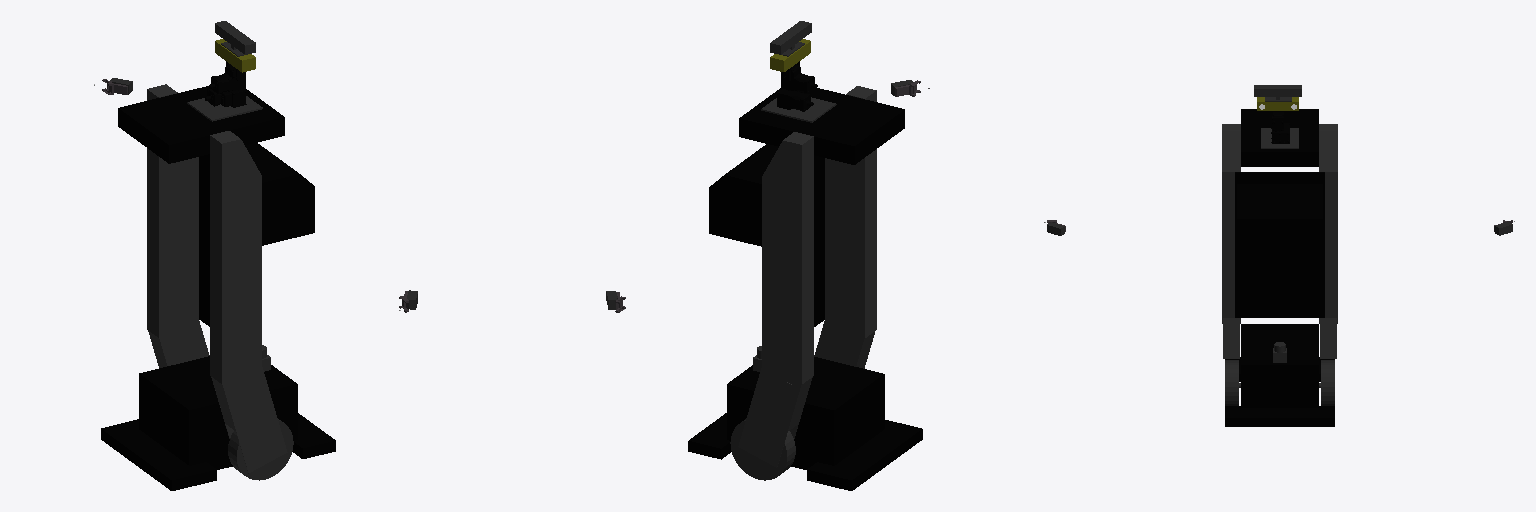
--- What the picture shows (computed from the rendered views, not written in the file) ---
The picture shows the robot from 3 angles, left to right: view 1: azimuth 30°, elevation 25°; view 2: azimuth 150°, elevation 25°; view 3: azimuth 270°, elevation 25°; orthographic projection.
Robot: phoebe — 39 links, 38 joints (16 revolute, 2 continuous, 4 prismatic, 16 fixed); root link base_footprint; default pose: all joints at 0.
Links seen in each view (by area): view 1: base_link, wheel_right, ptu_base_plate_link, xtion_link, ptu_tilt_link, bumblebee_link, ptu_pan_link; view 2: base_link, wheel_left, xtion_link, ptu_base_plate_link, ptu_pan_link, bumblebee_link, ptu_tilt_link; view 3: base_link, xtion_link, wheel_left, wheel_right.
Boxes of the visible links, bbox=[...] form: base_link: bbox=[101, 84, 335, 490]; wheel_right: bbox=[228, 419, 293, 480]; ptu_base_plate_link: bbox=[187, 96, 262, 121]; xtion_link: bbox=[215, 21, 255, 56]; ptu_tilt_link: bbox=[209, 64, 245, 93]; bumblebee_link: bbox=[215, 39, 255, 72]; ptu_pan_link: bbox=[205, 89, 246, 107]; base_link: bbox=[688, 86, 922, 490]; wheel_left: bbox=[730, 418, 795, 480]; xtion_link: bbox=[770, 21, 811, 56]; ptu_base_plate_link: bbox=[761, 97, 836, 122]; ptu_pan_link: bbox=[777, 89, 813, 111]; bumblebee_link: bbox=[770, 39, 810, 71]; ptu_tilt_link: bbox=[781, 64, 817, 93]; base_link: bbox=[1222, 109, 1337, 426]; xtion_link: bbox=[1254, 85, 1301, 101]; wheel_left: bbox=[1321, 360, 1334, 405]; wheel_right: bbox=[1225, 360, 1238, 405].
Size in the robot's own frame: 0.546 by 1.77 by 1.34 metres.
Meshes: 15 distinct files referenced, 6 mesh visuals loaded (5 Collada DAE); not drawn: 20 (reference not matched to a file when rendering).

robot.urdf — phoebe:
<?xml version="1.0" ?>
<!-- =================================================================================== -->
<!-- |    This document was autogenerated by xacro from [local-path]/catkin_ws/src/phoebe_stack/phoebe_description/phoebe.urdf.xacro | -->
<!-- |    EDITING THIS FILE BY HAND IS NOT RECOMMENDED                                 | -->
<!-- =================================================================================== -->
<robot name="phoebe" xmlns:xacro="http://www.ros.org/wiki/xacro">

  <!-- ros_control plugin -->
  <gazebo>
    <plugin name="gazebo_ros_control" filename="libgazebo_ros_control.so"/>
    <robotNamespace>/phoebe</robotNamespace>
    <robotSimType>gazebo_ros_control/DefaultRobotHWSim</robotSimType>
  </gazebo>
  
   <!-- Used for fixing robot to Gazebo 'base_link' -->
  <link name="base_footprint"/>
    
  <joint name="base_joint" type="fixed">
      <origin xyz="0 0 0.0012" rpy="0 0 0" />
      <parent link="base_footprint"/>
      <child link="base_link" />
  </joint> 

  <link name="base_link">
    <inertial>
      <origin rpy="0 0 0" xyz="-0.04 0 0.56"/>
      <mass value="12"/>
      <!-- inretia tensor for solid cuboid: m=12, h=1.12, d=0.49, w=0.41 -->
      <inertia ixx="1.4225" ixy="0" ixz="0" iyy="1.4945" iyz="0" izz="0.4082"/>
    </inertial>
    <visual>
      <origin rpy="0 0 0" xyz="0 0 0"/>
      <geometry>
        <mesh filename="package://phoebe_description/meshes/phoebe.dae"/>
      </geometry>
    </visual>
    <collision>
      <origin rpy="0 0 0" xyz="0 0 0"/>
      <geometry>
        <mesh filename="package://phoebe_description/meshes/phoebe.dae"/>
      </geometry>
    </collision>
  </link>

  <joint name="wheel_left_joint" type="continuous">
    <parent link="base_link"/>
    <child link="wheel_left"/>
    <origin rpy="1.570796 0 0" xyz="0.0 0.18 0.095"/>
    <axis xyz="0 0 1"/>
  </joint>
  <link name="wheel_left">
    <inertial>
      <origin rpy="0 0 0" xyz="0.0 0 0"/>
      <mass value="0.5"/>
      <!-- inretia tensor for solid cylinder: m=0.5, h=0.05, r=0.095 -->
      <inertia ixx="1.232291667e-03" ixy="0" ixz="0" iyy="1.232291667e-03" iyz="0" izz="2.25625e-03"/>
    </inertial>
    <visual>
      <origin rpy="0 0 0" xyz="0 0 0"/>
      <geometry>
        <cylinder length="0.05" radius="0.095"/>
      </geometry>
      <material name="blackish">
        <color rgba="0.2 0.2 0.2 1"/>
      </material>
    </visual>
    <collision>
      <origin rpy="0 0 0" xyz="0 0 0"/>
      <geometry>
        <cylinder length="0.05" radius="0.095"/>
      </geometry>
    </collision>
  </link>

  <joint name="wheel_right_joint" type="continuous">
    <parent link="base_link"/>
    <child link="wheel_right"/>
    <origin rpy="1.570796 0 0" xyz="0.0 -0.18 0.095"/>
    <axis xyz="0 0 1"/>
  </joint>
  <link name="wheel_right">
    <inertial>
      <origin rpy="0 0 0" xyz="0.0 0 0"/>
      <mass value="0.5"/>
      <!-- inretia tensor for solid cylinder: m=0.5, h=0.05, r=0.095 -->
      <inertia ixx="1.232291667e-03" ixy="0" ixz="0" iyy="1.232291667e-03" iyz="0" izz="2.25625e-03"/>
    </inertial>
    <visual>
      <origin rpy="0 0 0" xyz="0 0 0"/>
      <geometry>
        <cylinder length="0.05" radius="0.095"/>
      </geometry>
      <material name="blackish"/>
    </visual>
    <collision>
      <origin rpy="0 0 0" xyz="0 0 0"/>
      <geometry>
        <cylinder length="0.05" radius="0.095"/>
      </geometry>
    </collision>
  </link>

  <gazebo>
    <plugin name="differential_drive_controller" filename="libgazebo_ros_diff_drive.so">
      <legacyMode>false</legacyMode> <!-- warn -->
      <alwaysOn>true</alwaysOn>
      <updateRate>100</updateRate>
      <leftJoint>wheel_left_joint</leftJoint>
      <rightJoint>wheel_right_joint</rightJoint>
      <wheelSeparation>0.36</wheelSeparation>
      <wheelDiameter>0.19</wheelDiameter>
      <wheelAcceleration>0</wheelAcceleration> <!-- warn -->
      <wheelTorque>5</wheelTorque> <!-- torque -> wheelTorque -->
      <commandTopic>cmd_vel</commandTopic>
      <odometryTopic>odom</odometryTopic>
      <odometryFrame>odom</odometryFrame>
      <robotBaseFrame>base_link</robotBaseFrame>
      <publishWheelTF>true</publishWheelTF> <!-- warn -->
      <publishWheelJointState>true</publishWheelJointState> <!-- warn -->
      <rosDebugLevel>na</rosDebugLevel> <!-- warn -->
      <odometrySource>world</odometrySource> <!-- warn -->
    </plugin>
  </gazebo>

  <!-- Cyton Gamma 1500 models -->

  <!-- Right arm -->

  <joint name="right_arm_joint" type="fixed">
    <parent link="base_link"/>
    <child link="right_arm_base_link"/>
    <origin rpy="1.5708 -1.5708 0" xyz="0.067 -0.162 0.8"/>
  </joint>
  <link name="right_arm_base_link">
    <inertial>
      <origin rpy="0 0 0" xyz="0.0 0 0"/>
      <mass value="0.478571"/>
      <!-- inretia tensor for solid cuboid: m=0.478571, w=0.177, h=0.074, d=0.150 -->
      <inertia ixx="1.47e-03" ixy="0" ixz="0" iyy="2.15e-03" iyz="0" izz="1.12e-03"/>
    </inertial>
    <visual>
      <origin rpy="0 0 0" xyz="0 0 0"/>
      <geometry>
        <mesh filename="package://cyton_gamma_1500_description/meshes/base.dae"/>
      </geometry>
    </visual>
    <collision>
      <origin xyz="0 0.0115 0.047"/>
      <geometry>
        <box size="0.154 0.177 0.094"/>
      </geometry>
    </collision>
  </link>

  <joint name="right_arm_shoulder_roll_joint" type="revolute">
    <parent link="right_arm_base_link"/>
    <child link="right_arm_shoulder_roll"/>
    <origin rpy="0 0 0" xyz="0 0 0.05315"/>
    <limit effort="100.0" lower="-2.618" upper="2.618" velocity="1.0"/>
    <axis xyz="0 0 1"/>
  </joint>
  <link name="right_arm_shoulder_roll">
    <inertial>
      <origin rpy="0 0 0" xyz="0 0 0.12"/>
      <mass value="0.468571"/>
      <!-- inretia tensor for solid cylinder: m=0.468571, h=0.09248, r=0.044737 -->
      <inertia ixx="4.7e-04" ixy="0" ixz="0" iyy="5.7e-04" iyz="0" izz="5.7e-04"/>
    </inertial>
    <visual>
      <origin rpy="1.5708 0 0.384" xyz="0 0 0"/>
      <geometry>
        <mesh filename="package://cyton_gamma_1500_description/meshes/shoulder_roll.dae"/>
      </geometry>
    </visual>
    <collision>
      <origin xyz="0.0 0.069 0.0587"/>
      <geometry>
        <box size="0.09829 0.18143 0.08392"/>
      </geometry>
    </collision>
  </link>

  <transmission name="right_shoulder_roll_transm">
    <type>transmission_interface/SimpleTransmission</type>
    <joint name="right_arm_shoulder_roll_joint">
      <hardwareInterface>PositionJointInterface</hardwareInterface>
    </joint>
    <actuator name="right_shoulder_roll_motor">
      <hardwareInterface>PositionJointInterface</hardwareInterface>
    </actuator>
  </transmission>

  <joint name="right_arm_shoulder_pitch_joint" type="revolute">
    <parent link="right_arm_shoulder_roll"/>
    <child link="right_arm_shoulder_pitch"/>
    <origin rpy="0 0 0" xyz="0.0205 0 0.12435"/>
    <limit effort="100.0" lower="-1.8326" upper="1.8326" velocity="1.0"/>
    <axis xyz="1 0 0"/>
  </joint>
  <link name="right_arm_shoulder_pitch">
    <inertial>
      <origin rpy="0 0 0" xyz="-0.0214 0 0.117"/>
      <mass value="0.4285714"/>
      <!-- inretia tensor for solid cylinder: m=0.4285714, h=0.09248, r=0.04204 -->
      <inertia ixx="4.9e-04" ixy="0" ixz="0" iyy="3.8e-04" iyz="0" izz="4.9e-04"/>
    </inertial>
    <visual>
      <origin rpy="1.5708 0 0" xyz="0 0 0"/>
      <geometry>
        <mesh filename="package://cyton_gamma_1500_description/meshes/shoulder_pitch.dae"/>
      </geometry>
    </visual>
    <collision>
      <origin xyz="-0.001 0.064 0.1745"/>
      <geometry>
        <box size="0.0709 0.19363 0.083"/>
      </geometry>
    </collision>
  </link>
 
  <transmission name="right_shoulder_pitch_transm">
    <type>transmission_interface/SimpleTransmission</type>
    <joint name="right_arm_shoulder_pitch_joint">
      <hardwareInterface>PositionJointInterface</hardwareInterface>
    </joint>
    <actuator name="right_shoulder_pitch_motor">
      <hardwareInterface>PositionJointInterface</hardwareInterface>
    </actuator>
  </transmission>

  <joint name="right_arm_shoulder_yaw_joint" type="revolute">
    <parent link="right_arm_shoulder_pitch"/>
    <child link="right_arm_shoulder_yaw"/>
    <origin rpy="0 0 0" xyz="-0.0215 -0.0205 0.1255"/>
    <limit effort="100.0" lower="-1.8326" upper="1.8326" velocity="1.0"/>
    <axis xyz="0 -1 0"/>
  </joint>
  <link name="right_arm_shoulder_yaw">
    <inertial>
      <origin rpy="0 0 0" xyz="-0.002 0.021 0.1135"/>
      <mass value="0.408571"/>
      <!-- inretia tensor for solid cylinder: m=0.408571, h=0.084081, r=0.036785 -->
      <inertia ixx="2.8e-04" ixy="0" ixz="0" iyy="3.8e-04" iyz="0" izz="3.8e-04"/>
    </inertial>
    <visual>
      <origin rpy="1.5708 0 -1.5708" xyz="0 0 0.0"/>
      <geometry>
        <mesh filename="package://cyton_gamma_1500_description/meshes/shoulder_yaw.dae"/>
      </geometry>
    </visual>
    <collision>
      <origin xyz="-0.0225 0.039 0.3068"/>
      <geometry>
        <box size="0.0717 0.1846 0.0756"/>
      </geometry>
    </collision>
  </link>

  <transmission name="right_shoulder_yaw_transm">
    <type>transmission_interface/SimpleTransmission</type>
    <joint name="right_arm_shoulder_yaw_joint">
      <hardwareInterface>PositionJointInterface</hardwareInterface>
    </joint>
    <actuator name="right_shoulder_yaw_motor">
      <hardwareInterface>PositionJointInterface</hardwareInterface>
    </actuator>
  </transmission>

  <joint name="right_arm_elbow_pitch_joint" type="revolute">
    <parent link="right_arm_shoulder_yaw"/>
    <child link="right_arm_elbow_pitch"/>
    <origin rpy="0 0 0" xyz="0.018 0.0206 0.1158"/>
    <limit effort="100.0" lower="-1.8326" upper="1.8326" velocity="1.0"/>
    <axis xyz="1 0 0"/>
  </joint>
  <link name="right_arm_elbow_pitch">
    <inertial>
      <origin rpy="0 0 0" xyz="-0.0176 0.001 0.095"/>
      <mass value="0.388671"/>
      <!-- inretia tensor for solid cylinder: m=0.388671, h=0.06705, r=0.028975 -->
      <inertia ixx="2.3e-04" ixy="0" ixz="0" iyy="1.6e-04" iyz="0" izz="2.3e-04"/>
    </inertial>
    <visual>
      <origin rpy="1.5708 0 3.1416" xyz="0 0 0"/>
      <geometry>
        <mesh filename="package://cyton_gamma_1500_description/meshes/elbow_pitch.dae"/>
      </geometry>
    </visual>
    <collision>
      <origin xyz="0.0346 0.0461 0.4228"/>
      <geometry>
        <box size="0.0549 0.1557 0.076"/>
      </geometry>
    </collision>
  </link>

  <transmission name="right_elbow_pitch_transm">
    <type>transmission_interface/SimpleTransmission</type>
    <joint name="right_arm_elbow_pitch_joint">
      <hardwareInterface>PositionJointInterface</hardwareInterface>
    </joint>
    <actuator name="right_elbow_pitch_motor">
      <hardwareInterface>PositionJointInterface</hardwareInterface>
    </actuator>
  </transmission>

  <joint name="right_arm_elbow_yaw_joint" type="revolute">
    <parent link="right_arm_elbow_pitch"/>
    <child link="right_arm_elbow_yaw"/>
    <origin rpy="0 0 0" xyz="-0.0171 -0.018 0.09746"/>
    <limit effort="100.0" lower="-1.8326" upper="1.8326" velocity="1.0"/>
    <axis xyz="0 -1 0"/>
  </joint>
  <link name="right_arm_elbow_yaw">
    <inertial>
      <origin rpy="0 0 0" xyz="0 0.018 0.073"/>
      <mass value="0.368871"/>
      <!-- inretia tensor for solid cylinder: m=0.368871, h=0.043602, r=0.024071 -->
      <inertia ixx="1.0686e-04" ixy="0" ixz="0" iyy="1.1187e-04" iyz="0" izz="1.1187e-04"/>
    </inertial>
    <visual>
      <origin rpy="1.5708 0 1.5708" xyz="0 0 0"/>
      <geometry>
        <mesh filename="package://cyton_gamma_1500_description/meshes/elbow_yaw.dae"/>
      </geometry>
    </visual>
    <collision>
      <origin xyz="0.0172 0.0209 0.516"/>
      <geometry>
        <box size="0.0535 0.1160 0.0402"/>
      </geometry>
    </collision>
  </link>

  <transmission name="right_elbow_yaw_transm">
    <type>transmission_interface/SimpleTransmission</type>
    <joint name="right_arm_elbow_yaw_joint">
      <hardwareInterface>PositionJointInterface</hardwareInterface>
    </joint>
    <actuator name="right_elbow_yaw_motor">
      <hardwareInterface>PositionJointInterface</hardwareInterface>
    </actuator>
  </transmission>

  <joint name="right_arm_wrist_pitch_joint" type="revolute">
    <parent link="right_arm_elbow_yaw"/>
    <child link="right_arm_wrist_pitch"/>
    <origin rpy="0 0 0" xyz="0.02626 0.018 0.0718"/>
    <limit effort="100.0" lower="-1.8326" upper="1.8326" velocity="1.0"/>
    <axis xyz="-1 0 0"/>
  </joint>
  <link name="right_arm_wrist_pitch">
    <inertial>
      <origin rpy="0 0 0" xyz="-0.027 -0.0005 0.028"/>
      <mass value="0.008"/>
      <!-- inretia tensor for solid cuboid: m=0.008, h=0.045602, w=0.0218, d=0.005 -->
      <inertia ixx="3.3349e-07" ixy="0" ixz="0" iyy="1.403e-06" iyz="0" izz="1.70319e-06"/>
    </inertial>
    <visual>
      <origin rpy="1.5708 0 1.5708" xyz="0 0 0"/>
      <geometry>
        <mesh filename="package://cyton_gamma_1500_description/meshes/wrist_pitch.dae"/>
      </geometry>
    </visual>
    <collision>
      <origin xyz="0.0257 0.0118 0.5617"/>
      <geometry>
        <box size="0.026 0.0435 0.05185"/>
      </geometry>
    </collision>
  </link>

  <transmission name="right_wrist_pitch_transm">
    <type>transmission_interface/SimpleTransmission</type>
    <joint name="right_arm_wrist_pitch_joint">
      <hardwareInterface>PositionJointInterface</hardwareInterface>
    </joint>
    <actuator name="right_wrist_pitch_motor">
      <hardwareInterface>PositionJointInterface</hardwareInterface>
    </actuator>
  </transmission>

  <joint name="right_arm_wrist_roll_joint" type="revolute">
    <parent link="right_arm_wrist_pitch"/>
    <child link="right_arm_wrist_roll"/>
    <origin rpy="0 0 0" xyz="-0.026255 0 0.051425"/>
    <limit effort="100.0" lower="-2.61799" upper="2.61799" velocity="1.0"/>
    <axis xyz="0 0 1"/>
  </joint>
  <link name="right_arm_wrist_roll">
    <inertial>
      <origin rpy="0 0 0" xyz="0 0 0.029"/>
      <mass value="0.38"/>
      <!-- inretia tensor for solid cylinder: m=0.38, h=0.095, r=0.027975 -->
      <inertia ixx="3.6e-04" ixy="0" ixz="0" iyy="3.6e-04" iyz="0" izz="1.487e-04"/>
    </inertial>
    <visual>
      <origin rpy="3.1416 0 -1.5708" xyz="0 0 0"/>
      <geometry>
        <mesh filename="package://cyton_gamma_1500_description/meshes/wrist_roll.dae"/>
      </geometry>
    </visual>
    <collision>
      <origin xyz="-0.0063 -0.0014 0.6102"/>
      <geometry>
        <box size="0.0518 0.0723 0.1004"/>
      </geometry>
    </collision>
  </link>

  <transmission name="right_wrist_roll_transm">
    <type>transmission_interface/SimpleTransmission</type>
    <joint name="right_arm_wrist_roll_joint">
      <hardwareInterface>PositionJointInterface</hardwareInterface>
    </joint>
    <actuator name="right_wrist_roll_motor">
      <hardwareInterface>PositionJointInterface</hardwareInterface>
    </actuator>
  </transmission>

  <joint name="right_arm_gripper_joint" type="prismatic">
    <parent link="right_arm_wrist_roll"/>
    <child link="right_arm_gripper_finger1"/>
    <origin rpy="0 0 0" xyz="-0.01331 0.00485 0.077225"/>
    <limit effort="100.0" lower="-0.008" upper="0.008" velocity="1.0"/>
    <axis xyz="1 0 0"/>
  </joint>
  <link name="right_arm_gripper_finger1">
    <inertial>
      <origin rpy="0 0 0" xyz="-0.0036 0.0096 0.017"/>
      <mass value="0.035"/>
      <!-- inretia tensor for solid cuboid: m=0.035, h=0.0323, w=0.01469, d=0.0224 -->
      <inertia ixx="4.5064e-06" ixy="0" ixz="0" iyy="3.6723e-06" iyz="0" izz="2.0929e-06"/>
    </inertial>
    <visual>
      <origin rpy="0 0 0" xyz="0 0 0"/>
      <geometry>
        <mesh filename="package://cyton_gamma_1500_description/meshes/gripper_finger1.dae"/>
      </geometry>
    </visual>
    <collision>
      <origin xyz="-0.0167 0.0172 0.7254"/>
      <geometry>
        <box size="0.015 0.0229 0.0475"/>
      </geometry>
    </collision>
  </link>

  <transmission name="right_gripper_finger1">
    <type>transmission_interface/SimpleTransmission</type>
    <joint name="right_arm_gripper_joint">
      <hardwareInterface>PositionJointInterface</hardwareInterface>
    </joint>
    <actuator name="right_gripper_finger1_motor">
      <hardwareInterface>PositionJointInterface</hardwareInterface>
    </actuator>
  </transmission>

  <joint name="right_arm_gripper_joint2" type="prismatic">
    <parent link="right_arm_wrist_roll"/>
    <child link="right_arm_gripper_finger2"/>
    <origin rpy="0 0 0" xyz="0.0098 0.00485 0.077225"/>
    <limit effort="100.0" lower="-0.008" upper="0.008" velocity="1.0"/>
    <mimic joint="right_arm_gripper_joint" multiplier="-1"/>
    <axis xyz="1 0 0"/>
  </joint>
  <link name="right_arm_gripper_finger2">
    <inertial>
      <origin rpy="0 0 0" xyz="0.0034 0.0096 0.017"/>
      <mass value="0.035"/>
      <!-- inretia tensor for solid cuboid: m=0.035, h=0.0323, w=0.01469, d=0.0224 -->
      <inertia ixx="4.5064e-06" ixy="0" ixz="0" iyy="3.6723e-06" iyz="0" izz="2.0929e-06"/>
    </inertial>
    <visual>
      <origin rpy="0 0 0" xyz="0 0 0"/>
      <geometry>
        <mesh filename="package://cyton_gamma_1500_description/meshes/gripper_finger2.dae"/>
      </geometry>
    </visual>
    <collision>
      <origin xyz="0.0132 0.0172 0.7254"/>
      <geometry>
        <box size="0.015 0.0229 0.0475"/>
      </geometry>
    </collision>
  </link>

  <transmission name="right_gripper_finger2">
    <type>transmission_interface/SimpleTransmission</type>
    <joint name="right_arm_gripper_joint2">
      <hardwareInterface>PositionJointInterface</hardwareInterface>
    </joint>
    <actuator name="right_gripper_finger2_motor">
      <hardwareInterface>PositionJointInterface</hardwareInterface>
    </actuator>
  </transmission>


  <!-- virtual end-effector -->

  <joint name="right_arm_virtual_endeffector_joint" type="fixed">
    <parent link="right_arm_wrist_roll"/>
    <child link="right_arm_virtual_endeffector"/>
    <origin rpy="0 0 0" xyz="-0.002316 0.0079 0.079425"/>
  </joint>
  <link name="right_arm_virtual_endeffector">
    <inertial>
      <origin rpy="0 0 0" xyz="0 0 0"/>
      <mass value="0.0016"/>
      <!-- inretia tensor for solid sphere: m=0.0016, r=0.0022 -->
      <inertia ixx="3.0976e-09" ixy="0" ixz="0" iyy="3.0976e-09" iyz="0" izz="3.0976e-09"/>
    </inertial>
    <visual>
      <origin rpy="0 0 0" xyz="0 0 0"/>
      <geometry>
        <sphere radius="0.002"/>
      </geometry>
      <material name="grey">
        <color rgba="0.7 0.7 0.7 0.8"/>
      </material>
    </visual>
  </link>

  <joint name="right_arm_camera_bracket_joint" type="fixed">
    <parent link="right_arm_wrist_roll"/>
    <child link="right_arm_camera_bracket"/>
    <origin rpy="0 0 0" xyz="-0.0008 -0.028 0.0435"/>
  </joint>
  <link name="right_arm_camera_bracket">
    <inertial>
      <origin rpy="0.95 0 0" xyz="0 -0.01 -0.012"/>
      <mass value="0.052"/>
      <!-- inretia tensor for solid cuboid: m=0.052, h=0.071, w=0.028, d=0.0086 -->
      <inertia ixx="2.2165e-05" ixy="0" ixz="0" iyy="3.7178e-06" iyz="0" izz="2.5242e-05"/>
    </inertial>
    <visual>
      <origin rpy="0 0 0" xyz="0 0 0"/>
      <geometry>
        <mesh filename="package://cyton_gamma_1500_minicam_description/meshes/cam_bracket.dae"/>
      </geometry>
    </visual>
    <!--collision>
        <origin xyz="0.0 0.0 0.0"/>
        <geometry>
          <box size="0.03512 0.04821 0.07179"/>
        </geometry>
      </collision-->
  </link>

  <joint name="right_arm_camera_joint" type="fixed">
    <parent link="right_arm_camera_bracket"/>
    <child link="right_arm_camera"/>
    <origin rpy="-0.625 0 0" xyz="0.0 -0.028 -0.005"/>
  </joint>
  <link name="right_arm_camera">
    <inertial>
      <origin rpy="0 0 0" xyz="0 0 0"/>
      <mass value="0.085"/>
      <!-- inretia tensor for solid cuboid: m=0.085, h=0.065, w=0.024, d=0.024 -->
      <inertia ixx="3.4007e-05" ixy="0" ixz="0" iyy="3.4007e-05" iyz="0" izz="8.16e-06"/>
    </inertial>
    <visual>
      <origin rpy="0 0 0" xyz="0 0 0"/>
      <geometry>
        <box size="0.031 0.028 0.063"/>
      </geometry>
      <material name="blackish">
        <color rgba="0.2 0.2 0.2 1"/>
      </material>
    </visual>
    <collision>
      <origin rpy="0 0 0" xyz="0 0 0"/>
      <geometry>
        <box size="0.036 0.045 0.063"/>
      </geometry>
    </collision>
  </link>

  <gazebo reference="right_arm_camera">
    <sensor type="camera" name="camera_right">
      <update_rate>60</update_rate>
      <camera name="camera_right_arm">
        <horizontal_fov>1.3962634</horizontal_fov>
        <image>
          <width>1280</width>
          <height>1024</height>
          <format>R8G8B8</format>
        </image>
        <clip>
          <near>0.05</near>
          <far>3</far>
        </clip>
        <noise>
          <type>gaussian</type>
          <!-- Noise is sampled independently per pixel on each frame.
               That pixel's noise value is added to each of its color
               channels, which at that point lie in the range [0,1]. -->
          <mean>0.0</mean>
          <stddev>0.007</stddev>
        </noise>
      </camera>
      <plugin name="right_arm_camera_controller" filename="libgazebo_ros_camera.so">
        <alwaysOn>true</alwaysOn>
        <updateRate>0</updateRate>
        <cameraName>/arm_camera/right_arm_camera</cameraName>
        <imageTopicName>/arm_camera/right_arm_camera/image_raw</imageTopicName>
        <cameraInfoTopicName>/arm_camera/right_arm_camera/camera_info</cameraInfoTopicName>
        <frameName>right_arm_camera</frameName>
        <hackBaseline>0.07</hackBaseline>
        <distortionK1>0.0</distortionK1>
        <distortionK2>0.0</distortionK2>
        <distortionK3>0.0</distortionK3>
        <distortionT1>0.0</distortionT1>
        <distortionT2>0.0</distortionT2>
      </plugin>
    </sensor>
  </gazebo>

  <!-- Left arm -->

  <joint name="left_arm_joint" type="fixed">
    <parent link="base_link"/>
    <child link="left_arm_base_link"/>
    <origin rpy="-1.5708 1.5708 0" xyz="0.067 0.162 0.8"/>
  </joint>
  <link name="left_arm_base_link">
    <inertial>
      <origin rpy="0 0 0" xyz="0.0 0 0"/>
      <mass value="0.478571"/>
      <!-- inretia tensor for solid cuboid: m=0.478571, w=0.177, h=0.074, d=0.150 -->
      <inertia ixx="1.47e-03" ixy="0" ixz="0" iyy="2.15e-03" iyz="0" izz="1.12e-03"/>
    </inertial>
    <visual>
      <origin rpy="0 0 0" xyz="0 0 0"/>
      <geometry>
        <mesh filename="package://cyton_gamma_1500_description/meshes/base.dae"/>
      </geometry>
    </visual>
    <collision>
      <origin xyz="0 0.0115 0.047"/>
      <geometry>
        <box size="0.154 0.177 0.094"/>
      </geometry>
    </collision>
  </link>

  <joint name="left_arm_shoulder_roll_joint" type="revolute">
    <parent link="left_arm_base_link"/>
    <child link="left_arm_shoulder_roll"/>
    <origin rpy="0 0 0" xyz="0 0 0.05315"/>
    <limit effort="100.0" lower="-2.618" upper="2.618" velocity="1.0"/>
    <axis xyz="0 0 1"/>
  </joint>
  <link name="left_arm_shoulder_roll">
    <inertial>
      <origin rpy="0 0 0" xyz="0 0 0.12"/>
      <mass value="0.468571"/>
      <!-- inretia tensor for solid cylinder: m=0.468571, h=0.09248, r=0.044737 -->
      <inertia ixx="4.7e-04" ixy="0" ixz="0" iyy="5.7e-04" iyz="0" izz="5.7e-04"/>
    </inertial>
    <visual>
      <origin rpy="1.5708 0 0.384" xyz="0 0 0"/>
      <geometry>
        <mesh filename="package://cyton_gamma_1500_description/meshes/shoulder_roll.dae"/>
      </geometry>
    </visual>
    <collision>
      <origin xyz="0.0 0.069 0.0587"/>
      <geometry>
        <box size="0.09829 0.18143 0.08392"/>
      </geometry>
    </collision>
  </link>

  <transmission name="left_shoulder_roll_transm">
    <type>transmission_interface/SimpleTransmission</type>
    <joint name="left_arm_shoulder_roll_joint">
      <hardwareInterface>PositionJointInterface</hardwareInterface>
    </joint>
    <actuator name="left_shoulder_roll_motor">
      <hardwareInterface>PositionJointInterface</hardwareInterface>
    </actuator>
  </transmission>

  <joint name="left_arm_shoulder_pitch_joint" type="revolute">
    <parent link="left_arm_shoulder_roll"/>
    <child link="left_arm_shoulder_pitch"/>
    <origin rpy="0 0 0" xyz="0.0205 0 0.12435"/>
    <limit effort="100.0" lower="-1.8326" upper="1.8326" velocity="1.0"/>
    <axis xyz="1 0 0"/>
  </joint>
  <link name="left_arm_shoulder_pitch">
    <inertial>
      <origin rpy="0 0 0" xyz="-0.0214 0 0.117"/>
      <mass value="0.4285714"/>
      <!-- inretia tensor for solid cylinder: m=0.4285714, h=0.09248, r=0.04204 -->
      <inertia ixx="4.9e-04" ixy="0" ixz="0" iyy="3.8e-04" iyz="0" izz="4.9e-04"/>
    </inertial>
    <visual>
      <origin rpy="1.5708 0 0" xyz="0 0 0"/>
      <geometry>
        <mesh filename="package://cyton_gamma_1500_description/meshes/shoulder_pitch.dae"/>
      </geometry>
    </visual>
    <collision>
      <origin xyz="-0.001 0.064 0.1745"/>
      <geometry>
        <box size="0.0709 0.19363 0.083"/>
      </geometry>
    </collision>
  </link>

  <transmission name="left_shoulder_pitch_transm">
    <type>transmission_interface/SimpleTransmission</type>
    <joint name="left_arm_shoulder_pitch_joint">
      <hardwareInterface>PositionJointInterface</hardwareInterface>
    </joint>
    <actuator name="left_shoulder_pitch_motor">
      <hardwareInterface>PositionJointInterface</hardwareInterface>
    </actuator>
  </transmission>

  <joint name="left_arm_shoulder_yaw_joint" type="revolute">
    <parent link="left_arm_shoulder_pitch"/>
    <child link="left_arm_shoulder_yaw"/>
    <origin rpy="0 0 0" xyz="-0.0215 -0.0205 0.1255"/>
    <limit effort="100.0" lower="-1.8326" upper="1.8326" velocity="1.0"/>
    <axis xyz="0 -1 0"/>
  </joint>
  <link name="left_arm_shoulder_yaw">
    <inertial>
      <origin rpy="0 0 0" xyz="-0.002 0.021 0.1135"/>
      <mass value="0.408571"/>
      <!-- inretia tensor for solid cylinder: m=0.408571, h=0.084081, r=0.036785 -->
      <inertia ixx="2.8e-04" ixy="0" ixz="0" iyy="3.8e-04" iyz="0" izz="3.8e-04"/>
    </inertial>
    <visual>
      <origin rpy="1.5708 0 -1.5708" xyz="0 0 0.0"/>
      <geometry>
        <mesh filename="package://cyton_gamma_1500_description/meshes/shoulder_yaw.dae"/>
      </geometry>
    </visual>
    <collision>
      <origin xyz="-0.0225 0.039 0.3068"/>
      <geometry>
        <box size="0.0717 0.1846 0.0756"/>
      </geometry>
    </collision>
  </link>

  <transmission name="left_shoulder_yaw_transm">
    <type>transmission_interface/SimpleTransmission</type>
    <joint name="left_arm_shoulder_yaw_joint">
      <hardwareInterface>PositionJointInterface</hardwareInterface>
    </joint>
    <actuator name="left_shoulder_yaw_motor">
      <hardwareInterface>PositionJointInterface</hardwareInterface>
    </actuator>
  </transmission>

  <joint name="left_arm_elbow_pitch_joint" type="revolute">
    <parent link="left_arm_shoulder_yaw"/>
    <child link="left_arm_elbow_pitch"/>
    <origin rpy="0 0 0" xyz="0.018 0.0206 0.1158"/>
    <limit effort="100.0" lower="-1.8326" upper="1.8326" velocity="1.0"/>
    <axis xyz="1 0 0"/>
  </joint>
  <link name="left_arm_elbow_pitch">
    <inertial>
      <origin rpy="0 0 0" xyz="-0.0176 0.001 0.095"/>
      <mass value="0.388671"/>
      <!-- inretia tensor for solid cylinder: m=0.388671, h=0.06705, r=0.028975 -->
      <inertia ixx="2.3e-04" ixy="0" ixz="0" iyy="1.6e-04" iyz="0" izz="2.3e-04"/>
    </inertial>
    <visual>
      <origin rpy="1.5708 0 3.1416" xyz="0 0 0"/>
      <geometry>
        <mesh filename="package://cyton_gamma_1500_description/meshes/elbow_pitch.dae"/>
      </geometry>
    </visual>
    <collision>
      <origin xyz="0.0346 0.0461 0.4228"/>
      <geometry>
        <box size="0.0549 0.1557 0.076"/>
      </geometry>
    </collision>
  </link>
  
  <transmission name="left_elbow_pitch_transm">
    <type>transmission_interface/SimpleTransmission</type>
    <joint name="left_arm_elbow_pitch_joint">
      <hardwareInterface>PositionJointInterface</hardwareInterface>
    </joint>
    <actuator name="left_elbow_pitch_motor">
      <hardwareInterface>PositionJointInterface</hardwareInterface>
    </actuator>
  </transmission>

  <joint name="left_arm_elbow_yaw_joint" type="revolute">
    <parent link="left_arm_elbow_pitch"/>
    <child link="left_arm_elbow_yaw"/>
    <origin rpy="0 0 0" xyz="-0.0171 -0.018 0.09746"/>
    <limit effort="100.0" lower="-1.8326" upper="1.8326" velocity="1.0"/>
    <axis xyz="0 -1 0"/>
  </joint>
  <link name="left_arm_elbow_yaw">
    <inertial>
      <origin rpy="0 0 0" xyz="0 0.018 0.073"/>
      <mass value="0.368871"/>
      <!-- inretia tensor for solid cylinder: m=0.368871, h=0.043602, r=0.024071 -->
      <inertia ixx="1.0686e-04" ixy="0" ixz="0" iyy="1.1187e-04" iyz="0" izz="1.1187e-04"/>
    </inertial>
    <visual>
      <origin rpy="1.5708 0 1.5708" xyz="0 0 0"/>
      <geometry>
        <mesh filename="package://cyton_gamma_1500_description/meshes/elbow_yaw.dae"/>
      </geometry>
    </visual>
    <collision>
      <origin xyz="0.0172 0.0209 0.516"/>
      <geometry>
        <box size="0.0535 0.1160 0.0402"/>
      </geometry>
    </collision>
  </link>

  <transmission name="left_elbow_yaw_transm">
    <type>transmission_interface/SimpleTransmission</type>
    <joint name="left_arm_elbow_yaw_joint">
      <hardwareInterface>PositionJointInterface</hardwareInterface>
    </joint>
    <actuator name="left_elbow_yaw_motor">
      <hardwareInterface>PositionJointInterface</hardwareInterface>
    </actuator>
  </transmission>

  <joint name="left_arm_wrist_pitch_joint" type="revolute">
    <parent link="left_arm_elbow_yaw"/>
    <child link="left_arm_wrist_pitch"/>
    <origin rpy="0 0 0" xyz="0.02626 0.018 0.0718"/>
    <limit effort="100.0" lower="-1.8326" upper="1.8326" velocity="1.0"/>
    <axis xyz="-1 0 0"/>
  </joint>
  <link name="left_arm_wrist_pitch">
    <inertial>
      <origin rpy="0 0 0" xyz="-0.027 -0.0005 0.028"/>
      <mass value="0.008"/>
      <!-- inretia tensor for solid cuboid: m=0.008, h=0.045602, w=0.0218, d=0.005 -->
      <inertia ixx="3.3349e-07" ixy="0" ixz="0" iyy="1.403e-06" iyz="0" izz="1.70319e-06"/>
    </inertial>
    <visual>
      <origin rpy="1.5708 0 1.5708" xyz="0 0 0"/>
      <geometry>
        <mesh filename="package://cyton_gamma_1500_description/meshes/wrist_pitch.dae"/>
      </geometry>
    </visual>
    <collision>
      <origin xyz="0.0257 0.0118 0.5617"/>
      <geometry>
        <box size="0.026 0.0435 0.05185"/>
      </geometry>
    </collision>
  </link>

  <transmission name="left_wrist_pitch_transm">
    <type>transmission_interface/SimpleTransmission</type>
    <joint name="left_arm_wrist_pitch_joint">
      <hardwareInterface>PositionJointInterface</hardwareInterface>
    </joint>
    <actuator name="left_wrist_pitch_motor">
      <hardwareInterface>PositionJointInterface</hardwareInterface>
    </actuator>
  </transmission>

  <joint name="left_arm_wrist_roll_joint" type="revolute">
    <parent link="left_arm_wrist_pitch"/>
    <child link="left_arm_wrist_roll"/>
    <origin rpy="0 0 0" xyz="-0.026255 0 0.051425"/>
    <limit effort="100.0" lower="-2.61799" upper="2.61799" velocity="1.0"/>
    <axis xyz="0 0 1"/>
  </joint>
  <link name="left_arm_wrist_roll">
    <inertial>
      <origin rpy="0 0 0" xyz="0 0 0.029"/>
      <mass value="0.38"/>
      <!-- inretia tensor for solid cylinder: m=0.38, h=0.095, r=0.027975 -->
      <inertia ixx="3.6e-04" ixy="0" ixz="0" iyy="3.6e-04" iyz="0" izz="1.487e-04"/>
    </inertial>
    <visual>
      <origin rpy="3.1416 0 -1.5708" xyz="0 0 0"/>
      <geometry>
        <mesh filename="package://cyton_gamma_1500_description/meshes/wrist_roll.dae"/>
      </geometry>
    </visual>
    <collision>
      <origin xyz="-0.0063 -0.0014 0.6102"/>
      <geometry>
        <box size="0.0518 0.0723 0.1004"/>
      </geometry>
    </collision>
  </link>

  <transmission name="left_wrist_roll_transm">
    <type>transmission_interface/SimpleTransmission</type>
    <joint name="left_arm_wrist_roll_joint">
      <hardwareInterface>PositionJointInterface</hardwareInterface>
    </joint>
    <actuator name="left_wrist_roll_motor">
      <hardwareInterface>PositionJointInterface</hardwareInterface>
    </actuator>
  </transmission>

  <joint name="left_arm_gripper_joint" type="prismatic">
    <parent link="left_arm_wrist_roll"/>
    <child link="left_arm_gripper_finger1"/>
    <origin rpy="0 0 0" xyz="-0.01331 0.00485 0.077225"/>
    <limit effort="100.0" lower="-0.008" upper="0.008" velocity="1.0"/>
    <axis xyz="1 0 0"/>
  </joint>
  <link name="left_arm_gripper_finger1">
    <inertial>
      <origin rpy="0 0 0" xyz="-0.0036 0.0096 0.017"/>
      <mass value="0.035"/>
      <!-- inretia tensor for solid cuboid: m=0.035, h=0.0323, w=0.01469, d=0.0224 -->
      <inertia ixx="4.5064e-06" ixy="0" ixz="0" iyy="3.6723e-06" iyz="0" izz="2.0929e-06"/>
    </inertial>
    <visual>
      <origin rpy="0 0 0" xyz="0 0 0"/>
      <geometry>
        <mesh filename="package://cyton_gamma_1500_description/meshes/gripper_finger1.dae"/>
      </geometry>
    </visual>
    <collision>
      <origin xyz="-0.0167 0.0172 0.7254"/>
      <geometry>
        <box size="0.015 0.0229 0.0475"/>
      </geometry>
    </collision>
  </link>

  <transmission name="left_gripper_finger1">
    <type>transmission_interface/SimpleTransmission</type>
    <joint name="left_arm_gripper_joint">
      <hardwareInterface>PositionJointInterface</hardwareInterface>
    </joint>
    <actuator name="left_gripper_finger1_motor">
      <hardwareInterface>PositionJointInterface</hardwareInterface>
    </actuator>
  </transmission>

  <joint name="left_arm_gripper_joint2" type="prismatic">
    <parent link="left_arm_wrist_roll"/>
    <child link="left_arm_gripper_finger2"/>
    <origin rpy="0 0 0" xyz="0.0098 0.00485 0.077225"/>
    <limit effort="100.0" lower="-0.008" upper="0.008" velocity="1.0"/>
    <mimic joint="left_arm_gripper_joint" multiplier="-1"/>
    <axis xyz="1 0 0"/>
  </joint>
  <link name="left_arm_gripper_finger2">
    <inertial>
      <origin rpy="0 0 0" xyz="0.0034 0.0096 0.017"/>
      <mass value="0.035"/>
      <!-- inretia tensor for solid cuboid: m=0.035, h=0.0323, w=0.01469, d=0.0224 -->
      <inertia ixx="4.5064e-06" ixy="0" ixz="0" iyy="3.6723e-06" iyz="0" izz="2.0929e-06"/>
    </inertial>
    <visual>
      <origin rpy="0 0 0" xyz="0 0 0"/>
      <geometry>
        <mesh filename="package://cyton_gamma_1500_description/meshes/gripper_finger2.dae"/>
      </geometry>
    </visual>
    <collision>
      <origin xyz="0.0132 0.0172 0.7254"/>
      <geometry>
        <box size="0.015 0.0229 0.0475"/>
      </geometry>
    </collision>
  </link>

  <transmission name="left_gripper_finger2">
    <type>transmission_interface/SimpleTransmission</type>
    <joint name="left_arm_gripper_joint2">
      <hardwareInterface>PositionJointInterface</hardwareInterface>
    </joint>
    <actuator name="left_gripper_finger2_motor">
      <hardwareInterface>PositionJointInterface</hardwareInterface>
    </actuator>
  </transmission>


  <!-- virtual end-effector -->

  <joint name="left_arm_virtual_endeffector_joint" type="fixed">
    <parent link="left_arm_wrist_roll"/>
    <child link="left_arm_virtual_endeffector"/>
    <origin rpy="0 0 0" xyz="-0.002316 0.0079 0.079425"/>
  </joint>
  <link name="left_arm_virtual_endeffector">
    <inertial>
      <origin rpy="0 0 0" xyz="0 0 0"/>
      <mass value="0.0016"/>
      <!-- inretia tensor for solid sphere: m=0.0016, r=0.0022 -->
      <inertia ixx="3.0976e-09" ixy="0" ixz="0" iyy="3.0976e-09" iyz="0" izz="3.0976e-09"/>
    </inertial>
    <visual>
      <origin rpy="0 0 0" xyz="0 0 0"/>
      <geometry>
        <sphere radius="0.002"/>
      </geometry>
      <material name="grey">
        <color rgba="0.7 0.7 0.7 0.8"/>
      </material>
    </visual>
  </link>

  <joint name="left_arm_camera_bracket_joint" type="fixed">
    <parent link="left_arm_wrist_roll"/>
    <child link="left_arm_camera_bracket"/>
    <origin rpy="0 0 0" xyz="-0.0008 -0.028 0.0435"/>
  </joint>
  <link name="left_arm_camera_bracket">
    <inertial>
      <origin rpy="0.95 0 0" xyz="0 -0.01 -0.012"/>
      <mass value="0.052"/>
      <!-- inretia tensor for solid cuboid: m=0.052, h=0.071, w=0.028, d=0.0086 -->
      <inertia ixx="2.2165e-05" ixy="0" ixz="0" iyy="3.7178e-06" iyz="0" izz="2.5242e-05"/>
    </inertial>
    <visual>
      <origin rpy="0 0 0" xyz="0 0 0"/>
      <geometry>
        <mesh filename="package://cyton_gamma_1500_minicam_description/meshes/cam_bracket.dae"/>
      </geometry>
    </visual>
    <!--collision>
        <origin xyz="0.0 0.0 0.0"/>
        <geometry>
          <box size="0.03512 0.04821 0.07179"/>
        </geometry>
      </collision-->
  </link>

  <joint name="left_arm_camera_joint" type="fixed">
    <parent link="left_arm_camera_bracket"/>
    <child link="left_arm_camera"/>
    <origin rpy="-0.625 0 0" xyz="0.0 -0.028 -0.005"/>
  </joint>
  <link name="left_arm_camera">
    <inertial>
      <origin rpy="0 0 0" xyz="0 0 0"/>
      <mass value="0.085"/>
      <!-- inretia tensor for solid cuboid: m=0.085, h=0.065, w=0.024, d=0.024 -->
      <inertia ixx="3.4007e-05" ixy="0" ixz="0" iyy="3.4007e-05" iyz="0" izz="8.16e-06"/>
    </inertial>
    <visual>
      <origin rpy="0 0 0" xyz="0 0 0"/>
      <geometry>
        <box size="0.031 0.028 0.063"/>
      </geometry>
      <material name="blackish">
        <color rgba="0.2 0.2 0.2 1"/>
      </material>
    </visual>
    <collision>
      <origin rpy="0 0 0" xyz="0 0 0"/>
      <geometry>
        <box size="0.036 0.045 0.063"/>
      </geometry>
    </collision>
  </link>

  <gazebo reference="left_arm_camera">
    <sensor type="camera" name="camera_left">
      <update_rate>60</update_rate>
      <camera name="camera_left_arm">
        <horizontal_fov>1.3962634</horizontal_fov>
        <image>
          <width>1280</width>
          <height>1024</height>
          <format>R8G8B8</format>
        </image>
        <clip>
          <near>0.05</near>
          <far>3</far>
        </clip>
        <noise>
          <type>gaussian</type>
          <!-- Noise is sampled independently per pixel on each frame.
               That pixel's noise value is added to each of its color
               channels, which at that point lie in the range [0,1]. -->
          <mean>0.0</mean>
          <stddev>0.007</stddev>
        </noise>
      </camera>
      <plugin name="left_arm_camera_controller" filename="libgazebo_ros_camera.so">
        <alwaysOn>true</alwaysOn>
        <updateRate>0.0</updateRate>
        <cameraName>/arm_camera/left_arm_camera</cameraName>
        <imageTopicName>/arm_camera/left_arm_camera/image_raw</imageTopicName>
        <cameraInfoTopicName>/arm_camera/left_arm_camera/camera_info</cameraInfoTopicName>
        <frameName>left_arm_camera</frameName>
        <hackBaseline>0.07</hackBaseline>
        <distortionK1>0.0</distortionK1>
        <distortionK2>0.0</distortionK2>
        <distortionK3>0.0</distortionK3>
        <distortionT1>0.0</distortionT1>
        <distortionT2>0.0</distortionT2>
      </plugin>
    </sensor>
  </gazebo>

  <!-- PTU -->

  <joint name="ptu_joint" type="fixed">
    <parent link="base_link"/>
    <child link="ptu_base_plate_link"/>
    <origin rpy="0 0 0" xyz="0.02 0 1.1075"/>
  </joint>
  <link name="ptu_base_plate_link">
    <inertial>
      <origin rpy="0 0 0" xyz="-0.034 0 0"/>
      <mass value="0.07"/>
      <!-- inretia tensor for solid cuboid: m=0.07, h=0.005, w=0.142, d=0.17 -->
      <inertia ixx="1.1777e-04" ixy="0" ixz="0" iyy="1.6873e-04" iyz="0" izz="2.8621e-04"/>
    </inertial>
    <visual>
      <origin rpy="0 0 0" xyz="-0.035 0 0.0025"/>
      <geometry>
        <box size="0.17 0.142 0.005"/>
      </geometry>
      <material name="black">
        <color rgba="0.2 0.2 0.2 1"/>
      </material>
    </visual>
  </link>

  <joint name="ptu_base_plate_joint" type="fixed">
    <parent link="ptu_base_plate_link"/>
    <child link="ptu_base_link"/>
    <origin rpy="0 0 0" xyz="0.0 0.0 0.0"/>
  </joint>
  <link name="ptu_base_link">
  </link>

  <joint name="ptu_base_joint" type="fixed">
    <parent link="ptu_base_link"/>
    <child link="ptu_pan_link"/>
    <origin rpy="0 0 0" xyz="0.0 0 0.005"/>
  </joint>
  <link name="ptu_pan_link">
    <inertial>
      <origin rpy="0 0 0" xyz="0 0 0.06"/>
      <mass value="0.13"/>
      <!-- inretia tensor for solid cuboid: m=0.13, h=0.07, w=0.046, d=0.105 -->
      <inertia ixx="7.6006e-05" ixy="0" ixz="0" iyy="1.4136e-04" iyz="0" izz="1.7892e-04"/>
    </inertial>
    <visual>
      <origin rpy="0 0 0" xyz="0 0.0 0.025"/>
      <geometry>
        <mesh filename="package://dp_ptu_46_description/meshes/pan.dae"/>
      </geometry>
    </visual>
    <collision>
      <origin xyz="0 0.0115 0.047"/>
      <geometry>
        <box size="0.154 0.177 0.094"/>
      </geometry>
    </collision>
  </link>

  <joint name="ptu_pan_joint" type="revolute">
    <parent link="ptu_pan_link"/>
    <child link="ptu_tilt_link"/>
    <origin rpy="0 0 0" xyz="-0.00436 -0.0067 0.03"/>
    <limit effort="100.0" lower="-2.775" upper="2.775" velocity="1.0"/>
    <axis xyz="0 0 1"/>
  </joint>
  <link name="ptu_tilt_link">
    <inertial>
      <origin rpy="0 0 0" xyz="-0.03 0 0.05"/>
      <mass value="0.13"/>
      <!-- inretia tensor for solid cuboid: m=0.13, h=0.07, w=0.046, d=0.105 -->
      <inertia ixx="7.6006e-05" ixy="0" ixz="0" iyy="1.7252e-04" iyz="0" izz="1.4136e-04"/>
    </inertial>
    <visual>
      <origin rpy="0 0 0" xyz="0.00436 0.0067 0.0"/>
      <geometry>
        <mesh filename="package://dp_ptu_46_description/meshes/tilt.dae"/>
      </geometry>
    </visual>
    <collision>
      <origin xyz="0 0.0115 0.047"/>
      <geometry>
        <box size="0.154 0.177 0.094"/>
      </geometry>
    </collision>
  </link>

  <transmission name="ptu_pan_transmission">
    <type>transmission_interface/SimpleTransmission</type>
    <joint name="ptu_pan_joint">
      <hardwareInterface>EffortJointInterface</hardwareInterface>
    </joint>
    <actuator name="ptu_pan_motor">
      <mechanicalReduction>1</mechanicalReduction>
    </actuator>
  </transmission>

  <joint name="ptu_tilt_joint" type="revolute">
    <parent link="ptu_tilt_link"/>
    <child link="ptu_mount_link"/>
    <origin rpy="0 0 0" xyz="0.0 0 0.0659"/>
    <limit effort="100.0" lower="-1.396" upper="0.541" velocity="1.0"/>
    <axis xyz="0 -1 0"/>
  </joint>
  <link name="ptu_mount_link">
    <inertial>
      <origin rpy="0 0 0" xyz="0 0 0.036"/>
      <mass value="0.07"/>
      <!-- inretia tensor for solid cuboid: m=0.07, h=0.007, w=0.052, d=0.025 -->
      <inertia ixx="1.6059e-05" ixy="0" ixz="0" iyy="3.9316e-06" iyz="0" izz="1.9419e-05"/>
    </inertial>
    <visual>
      <origin rpy="0 0 0" xyz="0.00436 0.0067 -0.0659"/>
      <geometry>
        <mesh filename="package://dp_ptu_46_description/meshes/mount.dae"/>
      </geometry>
    </visual>
    <collision>
      <origin xyz="0 0.0115 0.047"/>
      <geometry>
        <box size="0.154 0.177 0.094"/>
      </geometry>
    </collision>
  </link>

  <transmission name="ptu_tilt_transmission">
    <type>transmission_interface/SimpleTransmission</type>
    <joint name="ptu_tilt_joint">
      <hardwareInterface>EffortJointInterface</hardwareInterface>
    </joint>
    <actuator name="ptu_tilt_motor">
      <mechanicalReduction>1</mechanicalReduction>
    </actuator>
  </transmission>

  <!-- Hokuyo lidar -->

  <joint name="hokuyo_base_joint" type="fixed">
    <parent link="base_link"/>
    <child link="hokuyo_link"/>
    <origin rpy="0 0 0" xyz="0.1 0 0.3"/>
  </joint>
  <link name="hokuyo_link">
    <inertial>
      <origin rpy="0 0 0" xyz="0 0 -0.02"/>
      <mass value="0.13"/>
      <!-- inretia tensor for solid cuboid: m=0.13, h=0.07, w=0.05, d=0.05 -->
      <inertia ixx="8.0167e-05" ixy="0" ixz="0" iyy="8.0167e-05" iyz="0" izz="5.4167e-05"/>
    </inertial>
    <visual>
      <origin rpy="0 0 0" xyz="0 0 0"/>
      <geometry>
        <cylinder length="0.0265" radius="0.021"/>
      </geometry>
      <material name="blackish"/>
    </visual>
    <visual>
      <origin rpy="0 0 0" xyz="0 0 -0.034"/>
      <geometry>
        <box size="0.05 0.05 0.041"/>
      </geometry>
      <material name="blackish"/>
    </visual>
    <collision>
      <origin rpy="0 0 0" xyz="0 0 0"/>
      <geometry>
        <cylinder length="0.0265" radius="0.021"/>
      </geometry>
    </collision>
    <collision>
      <origin rpy="0 0 0" xyz="0 0 -0.047"/>
      <geometry>
        <box size="0.05 0.05 0.041"/>
      </geometry>
    </collision>
  </link>

  <gazebo reference="hokuyo_link">
    <sensor type="gpu_ray" name="hokuyo_sensor">
      <pose>0 0 0 0 0 0</pose>
      <visualize>false</visualize>
      <update_rate>40</update_rate>
      <ray>
        <scan>
          <horizontal>
            <samples>720</samples>
            <resolution>1</resolution>
            <min_angle>-1.570796</min_angle>
            <max_angle>1.570796</max_angle>
          </horizontal>
        </scan>
        <range>
          <min>0.02</min>
          <max>5.6</max>
          <resolution>0.01</resolution>
        </range>
        <noise>
          <type>gaussian</type>
          <!-- Noise parameters based on published spec for Hokuyo laser
               achieving "+-30mm" accuracy at range < 10m.  A mean of 0.0m and
               stddev of 0.01m will put 99.7% of samples within 0.03m of the true
               reading. -->
          <mean>0.0</mean>
          <stddev>0.01</stddev>
        </noise>
      </ray>
      <plugin name="hokuyo_controller" filename="libgazebo_ros_gpu_laser.so">
        <topicName>/hokuyo/laser/scan</topicName>
        <frameName>hokuyo_link</frameName>
      </plugin>
    </sensor>
  </gazebo>

  <!-- Bumblebee 2 -->

  <joint name="bumblebee_joint" type="fixed">
    <parent link="ptu_mount_link"/>
    <child link="bumblebee_link"/>
    <origin rpy="0 0 0" xyz="0 0 0.058"/>
  </joint>
  <link name="bumblebee_link">
    <inertial>
      <origin rpy="0 0 0" xyz="0 0 0"/>
      <mass value="0.342"/>
      <!-- inretia tensor for solid cuboid: m=0.342, h=0.036, w=0.157, d=0.0474 -->
      <inertia ixx="7.3943e-04" ixy="0" ixz="0" iyy="1.0096e-04" iyz="0" izz="7.6653e-04"/>
    </inertial>
    <visual>
      <origin rpy="0 0 0" xyz="0 0 0"/>
      <geometry>
        <box size="0.047 0.157 0.038"/>
      </geometry>
      <material name="golden">
        <color rgba="0.4 0.4 0.1 1"/>
      </material>
    </visual>
  </link>

  <joint name="bumblebee_cameras_joint" type="fixed">
    <parent link="bumblebee_link"/>
    <child link="bumblebee_cameras_link"/>
    <origin rpy="0 0 0" xyz="0 0 0.0"/>
  </joint>
  <link name="bumblebee_cameras_link">
    <visual>
      <origin rpy="0 1.5708 0" xyz="0.024 0.06 0"/>
      <geometry>
        <cylinder length="0.001" radius="0.011"/>
      </geometry>
      <material name="glass">
        <color rgba="1 1 1 0.2"/>
      </material>
    </visual>
    <visual>
      <origin rpy="0 1.5708 0" xyz="0.024 -0.06 0"/>
      <geometry>
        <cylinder length="0.001" radius="0.011"/>
      </geometry>
      <material name="glass"/>
    </visual>
  </link>

  <gazebo reference="bumblebee_cameras_link">
    <sensor type="multicamera" name="stereo_camera">
      <update_rate>20</update_rate>
      <camera name="left">
        <horizontal_fov>1.3962634</horizontal_fov>
        <image>
          <width>1032</width>
          <height>776</height>
          <format>R8G8B8</format>
        </image>
        <clip>
          <near>0.02</near>
          <far>35</far>
        </clip>
        <noise>
          <type>gaussian</type>
          <mean>0.0</mean>
          <stddev>0.007</stddev>
        </noise>
      </camera>
      <camera name="right">
        <pose>0 -0.07 0 0 0 0</pose>
        <horizontal_fov>1.3962634</horizontal_fov>
        <image>
          <width>1032</width>
          <height>776</height>
          <format>R8G8B8</format>
        </image>
        <clip>
          <near>0.02</near>
          <far>35</far>
        </clip>
        <noise>
          <type>gaussian</type>
          <mean>0.0</mean>
          <stddev>0.007</stddev>
        </noise>
      </camera>
      <plugin name="stereo_camera_controller" filename="libgazebo_ros_multicamera.so">
        <alwaysOn>true</alwaysOn>
        <updateRate>0.0</updateRate>
        <cameraName>stereo_camera</cameraName>
        <imageTopicName>image_raw</imageTopicName>
        <cameraInfoTopicName>camera_info</cameraInfoTopicName>
        <frameName>bumblebee_left_camera_frame</frameName>
        <rightFrameName>bumblebee_right_camera_frame</rightFrameName>
        <hackBaseline>0.07</hackBaseline>
        <distortionK1>0.0</distortionK1>
        <distortionK2>0.0</distortionK2>
        <distortionK3>0.0</distortionK3>
        <distortionT1>0.0</distortionT1>
        <distortionT2>0.0</distortionT2>
      </plugin>
    </sensor>
  </gazebo>

  <!-- Asus Xtion Pro Live -->

  <joint name="xtion_joint" type="fixed">
    <parent link="bumblebee_link"/>
    <child link="xtion_link"/>
    <origin rpy="0 0 0" xyz="0 0 0.055"/>
  </joint>
  <link name="xtion_link">
    <inertial>
      <origin rpy="0 0 0" xyz="0 0 0"/>
      <mass value="0.54"/>
      <!-- inretia tensor for solid cuboid: m=0.54, h=0.034, w=0.18, d=0.034 -->
      <inertia ixx="1.51e-03" ixy="0" ixz="0" iyy="1.0404e-04" iyz="0" izz="1.51e-03"/>
    </inertial>
    <visual>
      <origin rpy="0 0 0" xyz="0 0 0"/>
      <geometry>
        <box size="0.036 0.178 0.03"/>
      </geometry>
      <material name="blackish"/>
    </visual>
    <visual>
      <origin rpy="0 0 0" xyz="0 0 -0.025"/>
      <geometry>
        <box size="0.02 0.017 0.02"/>
      </geometry>
      <material name="blackish"/>
    </visual>
    <visual>
      <origin rpy="0 0 0" xyz="0 0 -0.035"/>
      <geometry>
        <box size="0.04 0.1 0.004"/>
      </geometry>
      <material name="blackish"/>
    </visual>
  </link>

  <gazebo reference="xtion_link">
    <sensor type="depth" name="depth_camera_sensor">
      <update_rate>30</update_rate>
      <camera>
        <horizontal_fov>1.01229096</horizontal_fov>
        <image>
          <width>640</width>
          <height>480</height>
          <format>R8G8B8</format>
        </image>
        <clip>
          <near>0.8</near>
          <far>3.5</far>
        </clip>
      </camera>
      <plugin name="depth_camera_controller" filename="libgazebo_ros_openni_kinect.so">
        <baseline>0.2</baseline>
        <alwaysOn>true</alwaysOn>
        <updateRate>0</updateRate>
        <!-- update_rate in parent <sensor> will control the frame rate -->
        <cameraName>depth_camera_ir</cameraName>
        <imageTopicName>/depth_camera/depth/image_raw</imageTopicName>
        <cameraInfoTopicName>/depth_camera/depth/camera_info</cameraInfoTopicName>
        <depthImageTopicName>/depth_camera/depth/image_raw</depthImageTopicName>
        <depthImageInfoTopicName>/depth_camera/depth/camera_info</depthImageInfoTopicName>
        <pointCloudTopicName>/depth_camera/depth/points</pointCloudTopicName>
        <frameName>xtion_link</frameName>
        <pointCloudCutoff>0.5</pointCloudCutoff>
        <distortionK1>0.00000001</distortionK1>
        <distortionK2>0.00000001</distortionK2>
        <distortionK3>0.00000001</distortionK3>
        <distortionT1>0.00000001</distortionT1>
        <distortionT2>0.00000001</distortionT2>
        <CxPrime>0</CxPrime>
        <Cx>0</Cx>
        <Cy>0</Cy>
        <focalLength>0</focalLength>
        <hackBaseline>0</hackBaseline>
      </plugin>
    </sensor>
  </gazebo>
  <!--
  <gazebo>
    <plugin name="joint_state_publisher" filename="libgazebo_ros_joint_state_publisher.so">
      <jointName>
        right_arm_shoulder_roll_joint
        right_arm_shoulder_pitch_joint
        right_arm_shoulder_yaw_joint
        right_arm_elbow_pitch_joint
        right_arm_elbow_yaw_joint
        right_arm_wrist_pitch_joint
        right_arm_wrist_roll_joint
        right_arm_gripper_joint
        right_arm_gripper_joint2
        left_arm_shoulder_roll_joint
        left_arm_shoulder_pitch_joint
        left_arm_shoulder_yaw_joint
        left_arm_elbow_pitch_joint
        left_arm_elbow_yaw_joint
        left_arm_wrist_pitch_joint
        left_arm_wrist_roll_joint
        left_arm_gripper_joint
        left_arm_gripper_joint2
      </jointName>
    </plugin>
  </gazebo>
  -->
</robot>
